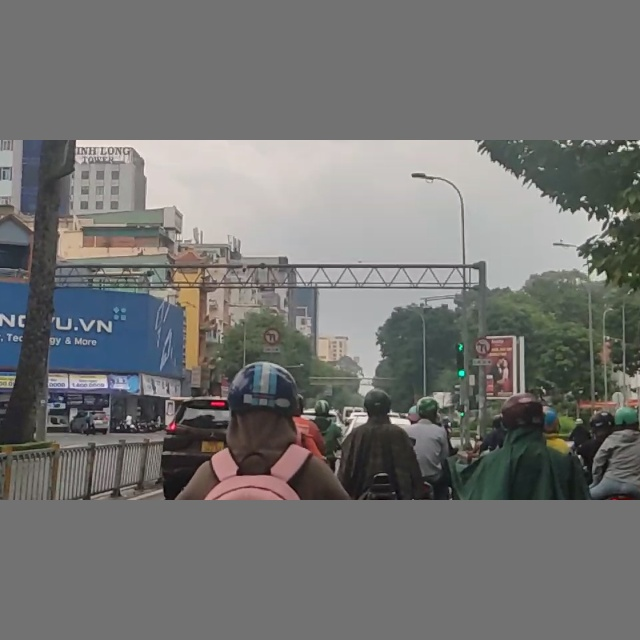P.124c: (263, 328, 281, 346), (474, 337, 491, 356)
